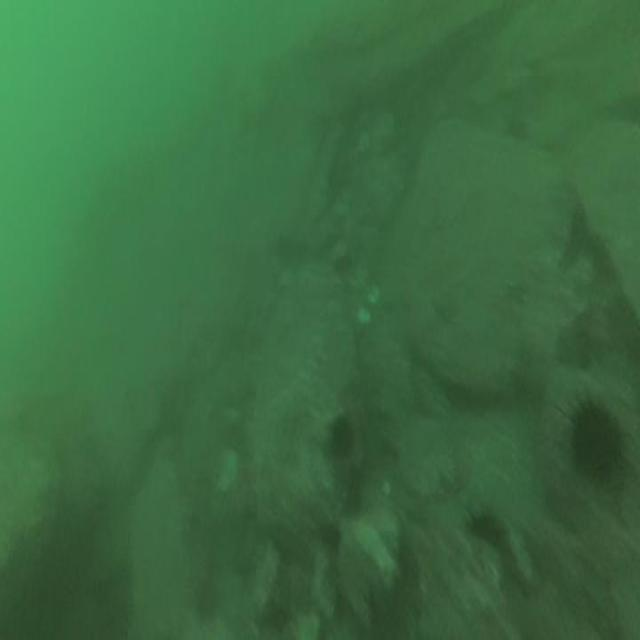echinus: (572, 401, 618, 479), (465, 506, 506, 548), (332, 416, 352, 450)
